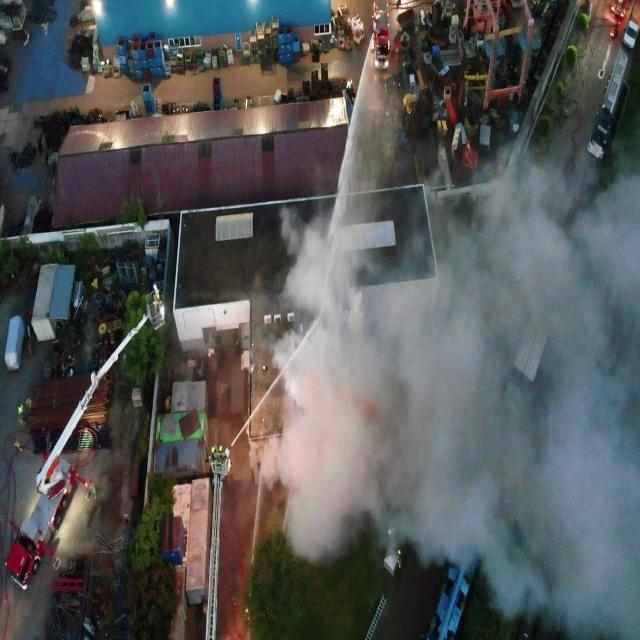Smoke: (247, 136, 640, 640)
